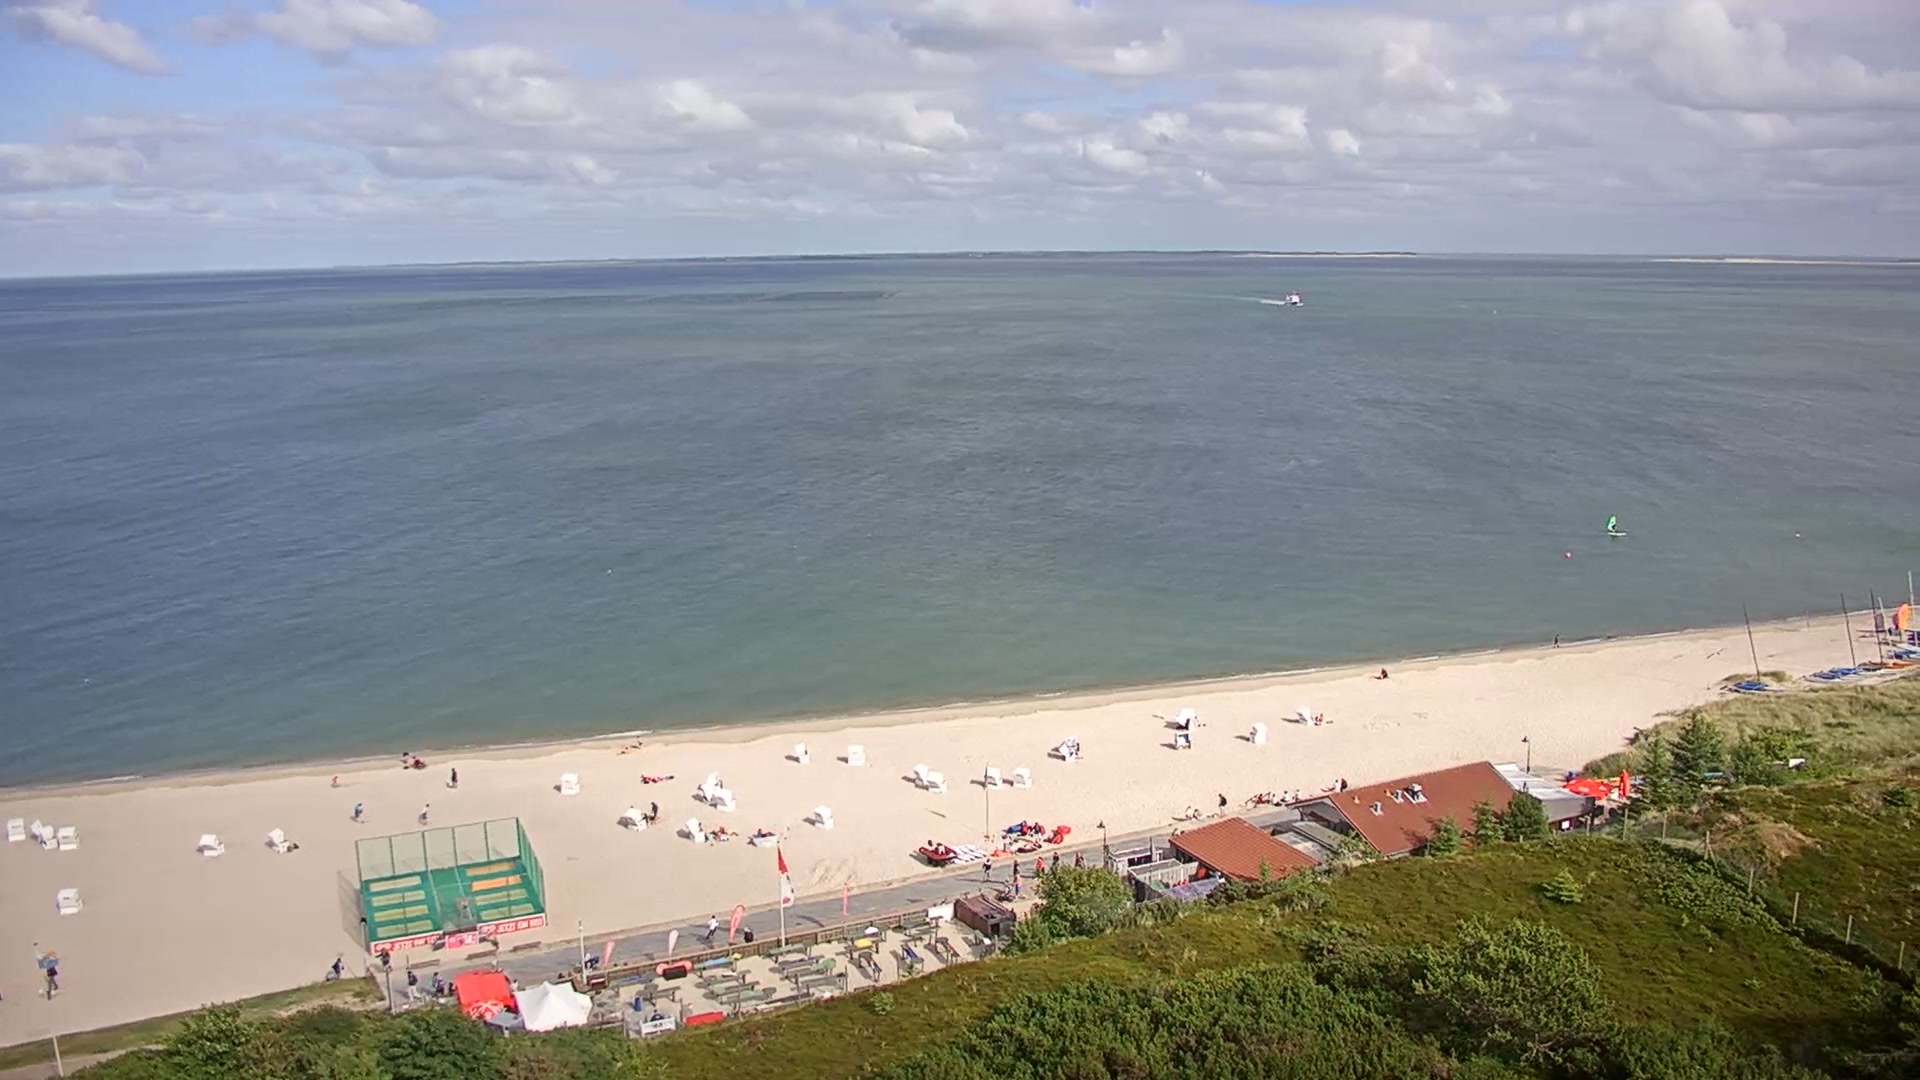human: (374, 945, 391, 970), (703, 913, 719, 939), (406, 969, 420, 1000), (46, 965, 59, 993), (331, 954, 344, 981), (432, 970, 446, 998), (1215, 791, 1228, 816), (419, 802, 431, 825), (354, 801, 365, 822), (1073, 850, 1085, 869), (982, 857, 992, 881), (1012, 871, 1021, 896), (410, 754, 426, 768), (1891, 610, 1900, 633), (743, 924, 754, 942), (449, 766, 458, 787), (1035, 855, 1045, 876), (649, 1007, 663, 1021), (649, 800, 658, 820), (1051, 850, 1060, 870), (400, 750, 410, 768), (1012, 858, 1020, 875), (330, 774, 340, 787), (1339, 776, 1347, 791), (1378, 666, 1388, 678), (1292, 787, 1301, 801), (1552, 633, 1560, 647), (1184, 804, 1192, 819), (1192, 806, 1200, 820), (1330, 778, 1339, 792), (634, 733, 642, 747), (1272, 792, 1280, 806), (1281, 789, 1289, 802), (1171, 826, 1180, 836), (1257, 792, 1265, 803)
sea: (1721, 599, 1768, 695), (1826, 591, 1861, 677), (1856, 589, 1886, 676), (918, 838, 958, 865), (1605, 512, 1627, 535), (1282, 291, 1303, 306)
